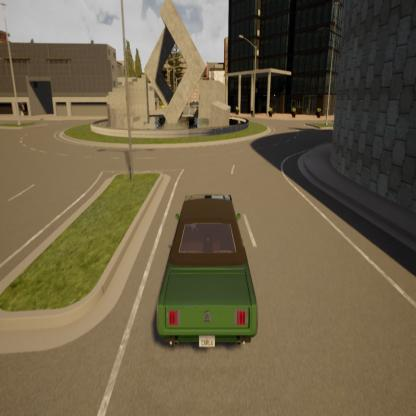Cars: (149, 169, 272, 373)
